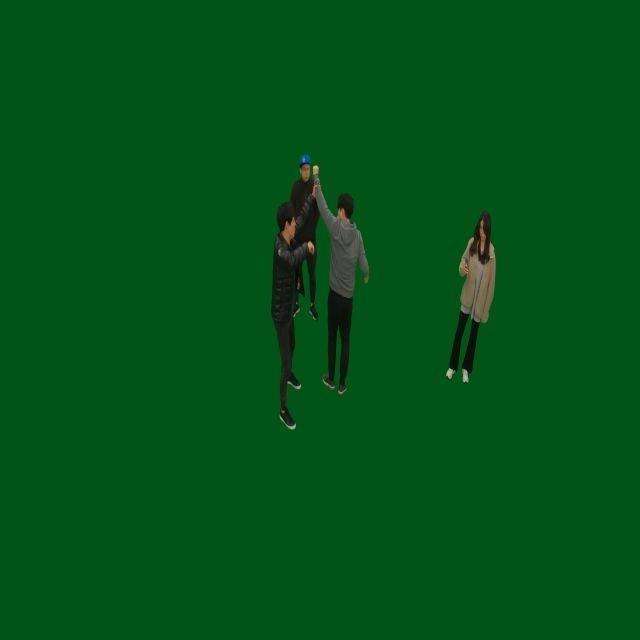fight: (269, 153, 369, 429)
non-fight: (447, 211, 496, 383), (285, 153, 326, 320)
